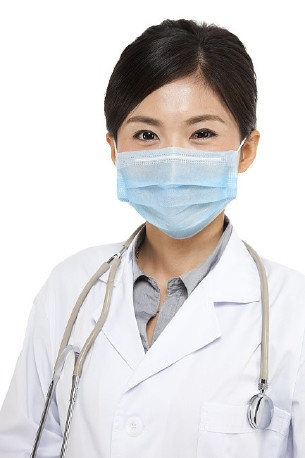Mask: (112, 109, 243, 239)
